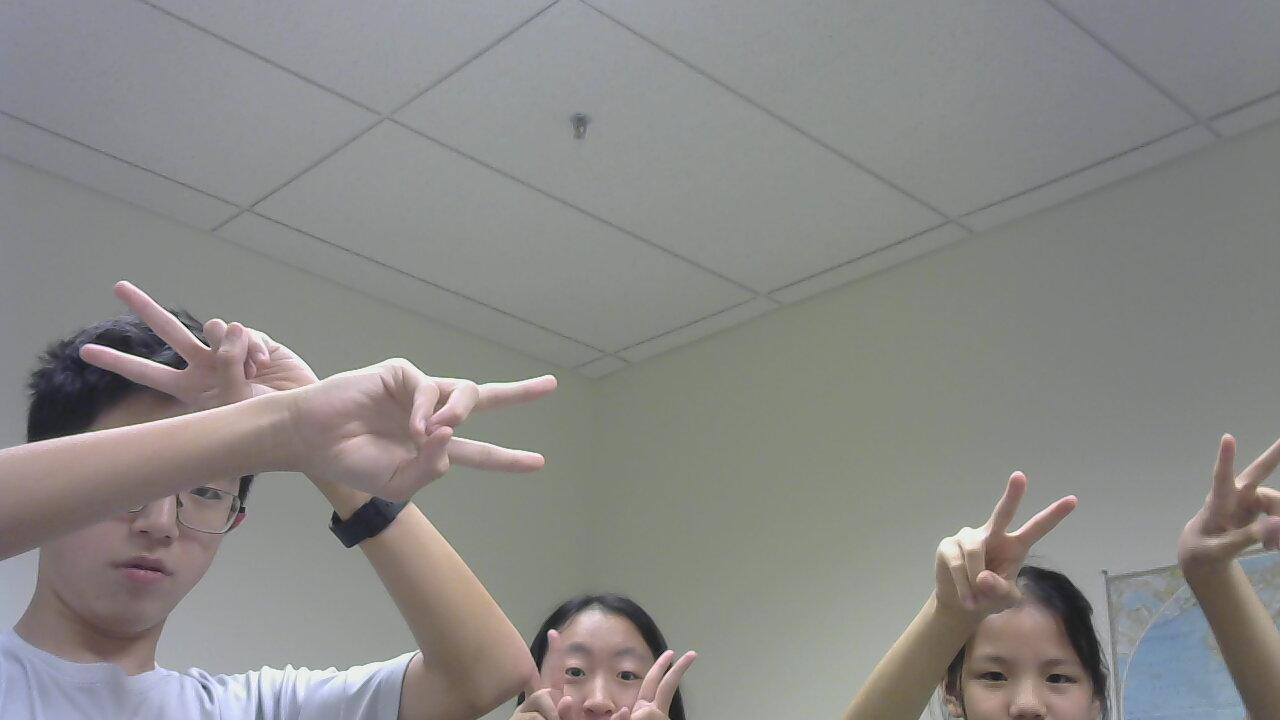peace: (298, 337, 540, 501), (81, 272, 339, 408), (926, 464, 1084, 628), (1180, 419, 1280, 586), (626, 642, 705, 720)
